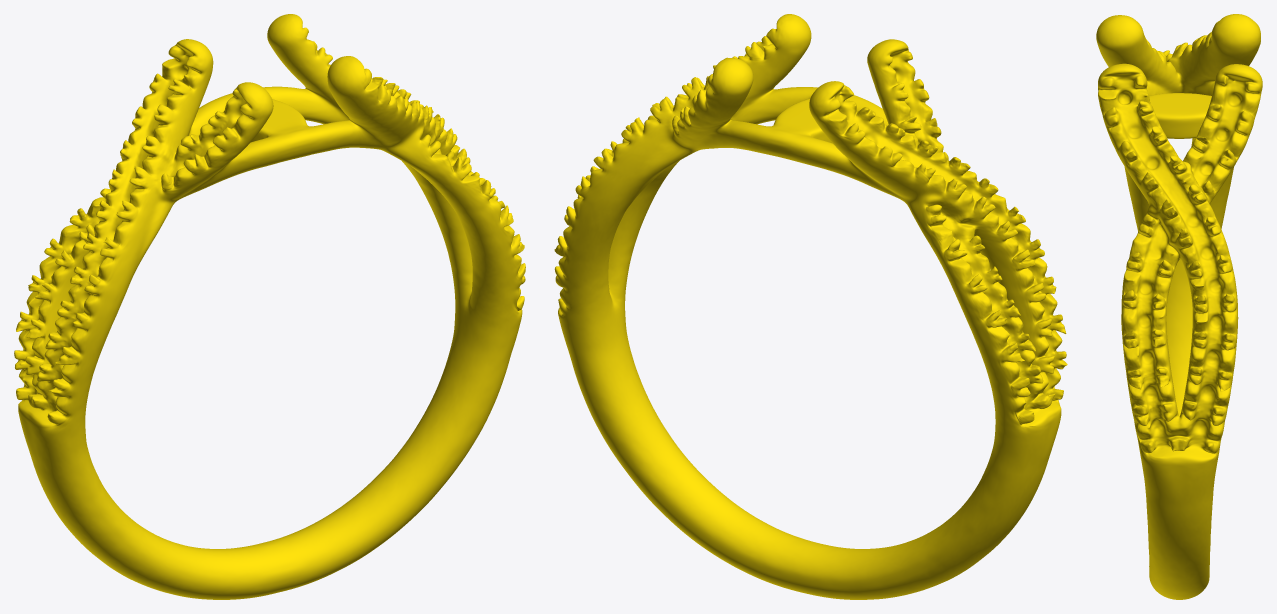
Rendered from Shank_Twist_French Pave_B_No, Hidden Halo_Band.glb.
The picture shows the model from 3 angles, left to right: view 1: azimuth 30°, elevation 25°; view 2: azimuth 150°, elevation 25°; view 3: azimuth 270°, elevation 25°; orthographic projection.
Size of the model in its own units: 0.0215 by 0.0229 by 0.00649.
